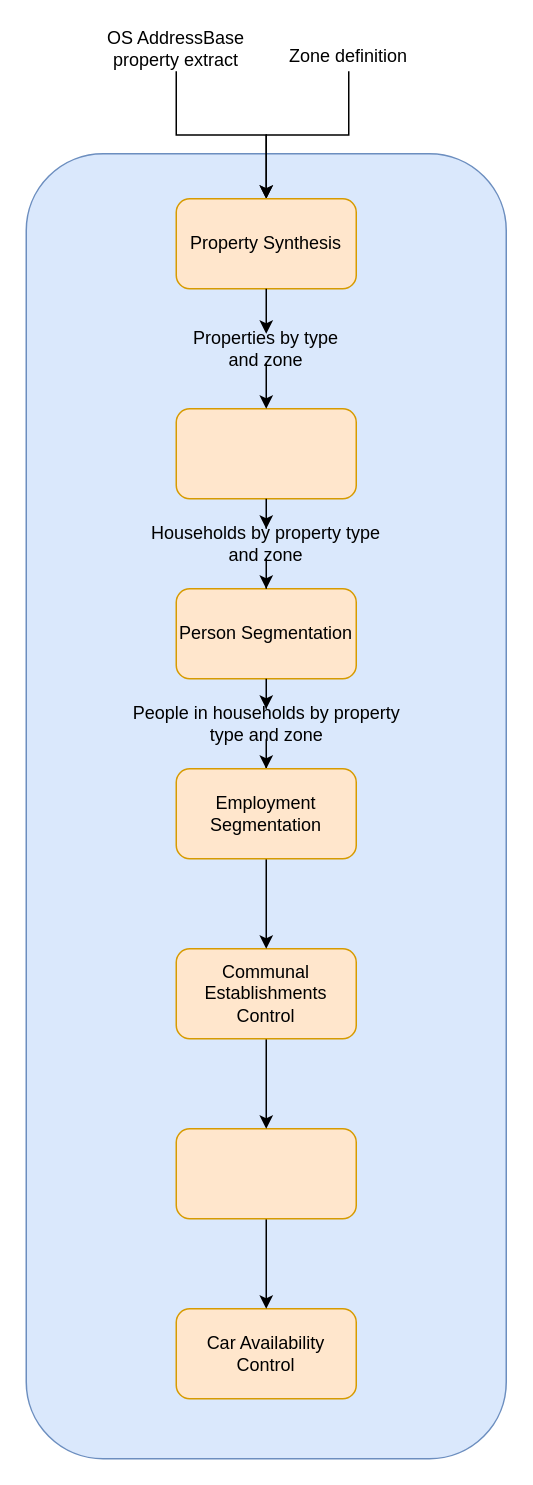
Image size: 533x1485. Some labels were removed from this diagram. The shapes that lost their labels are listed below. From the top down, each one's centre as x and y in pixels, then its label:
pixel 265 453: Household Synthesis
pixel 265 1173: Mid-year Population Estimate Control
